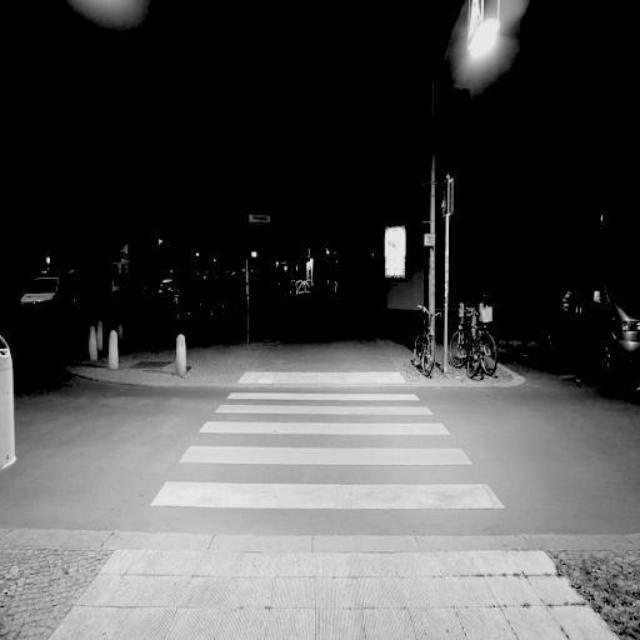sidewalk: (127, 369, 535, 537)
